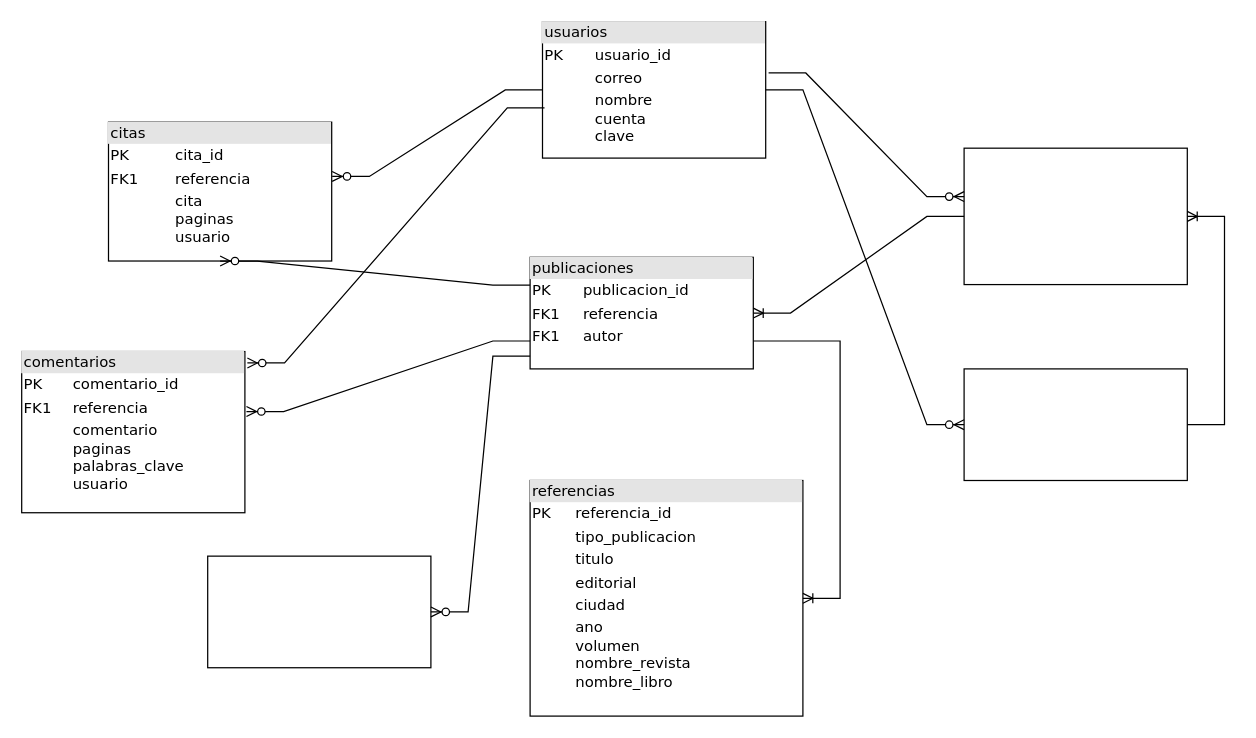
This 1256x738 diagram has some shape labels left out. The shapes that lost their labels are listed below. From the top down, each one's centre as x and y in pixels, then its label:
pixel 1075 216: colecciones PK item_id FK1 usuario FK1 publicacion PK nombre_coll
pixel 1075 424: bibliotecas PK biblioteca_id FK1 usuario FK1 coleccion
pixel 318 611: autores PK autor_id apellidos nombres
